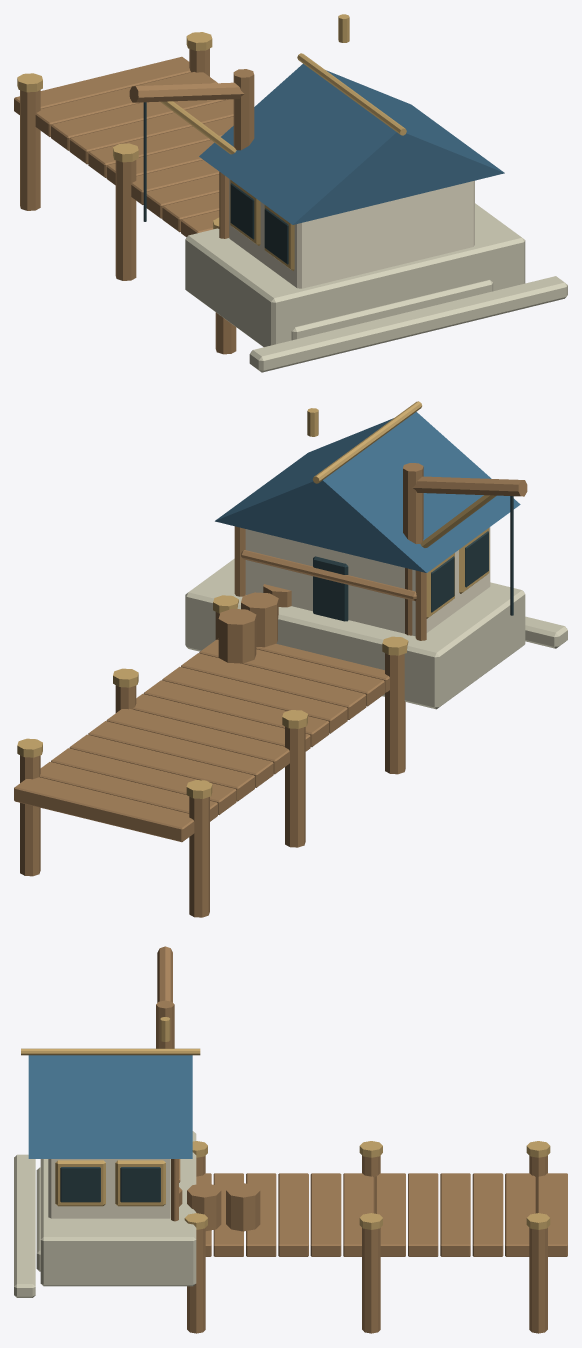
The model's file is level_07.glb.
3 views of the same model, one above another, from view 1: azimuth 30°, elevation 25°; view 2: azimuth 150°, elevation 25°; view 3: azimuth 270°, elevation 25° (orthographic). The views are drawn at different scales.
Parts seen in each view (by area): view 1: fishing_wharf — level 07; view 2: fishing_wharf — level 07; view 3: fishing_wharf — level 07.
Part boxes in pixels (bbox=[...]): fishing_wharf — level 07: bbox=[14, 14, 567, 372]; fishing_wharf — level 07: bbox=[14, 401, 567, 917]; fishing_wharf — level 07: bbox=[14, 946, 567, 1333].
Bounding box in the file's own units: 4.53 × 3.98 × 7.1.
